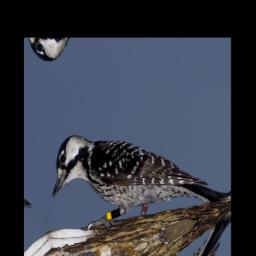Woodpecker: (40, 74, 229, 256)
